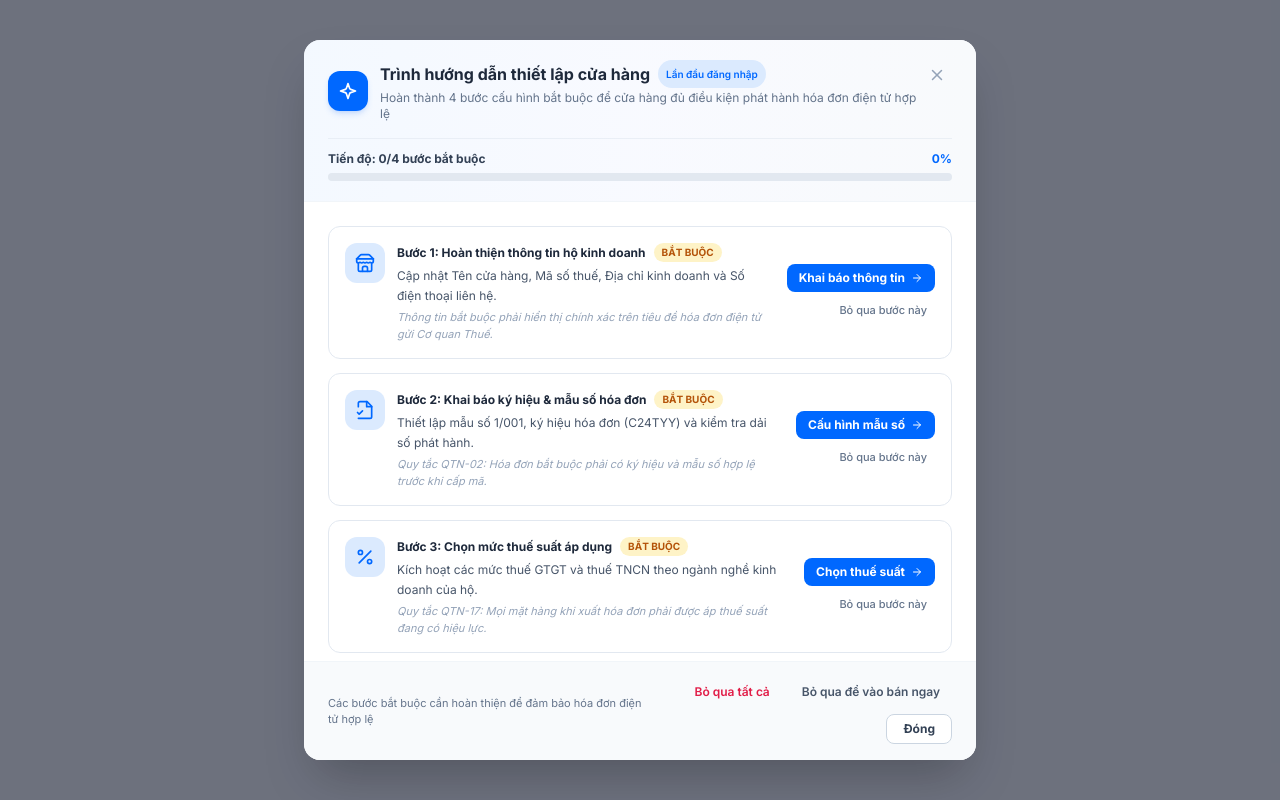
Test: NCL-09-CN-007: Trình hướng dẫn thiết lập lần đầu › TC-11: Bỏ qua từng bước (skip individual step) và khôi phục bước
Expected: the text "Tiến độ: 0/4 bước bắt buộc" is shown, left=328, top=151, right=486, bottom=167
Step 1. Click the button "Bỏ qua bước này" below "Hoàn thiện thông tin hộ kinh doanh" → (883,311), box left=831, top=300, right=935, bottom=321
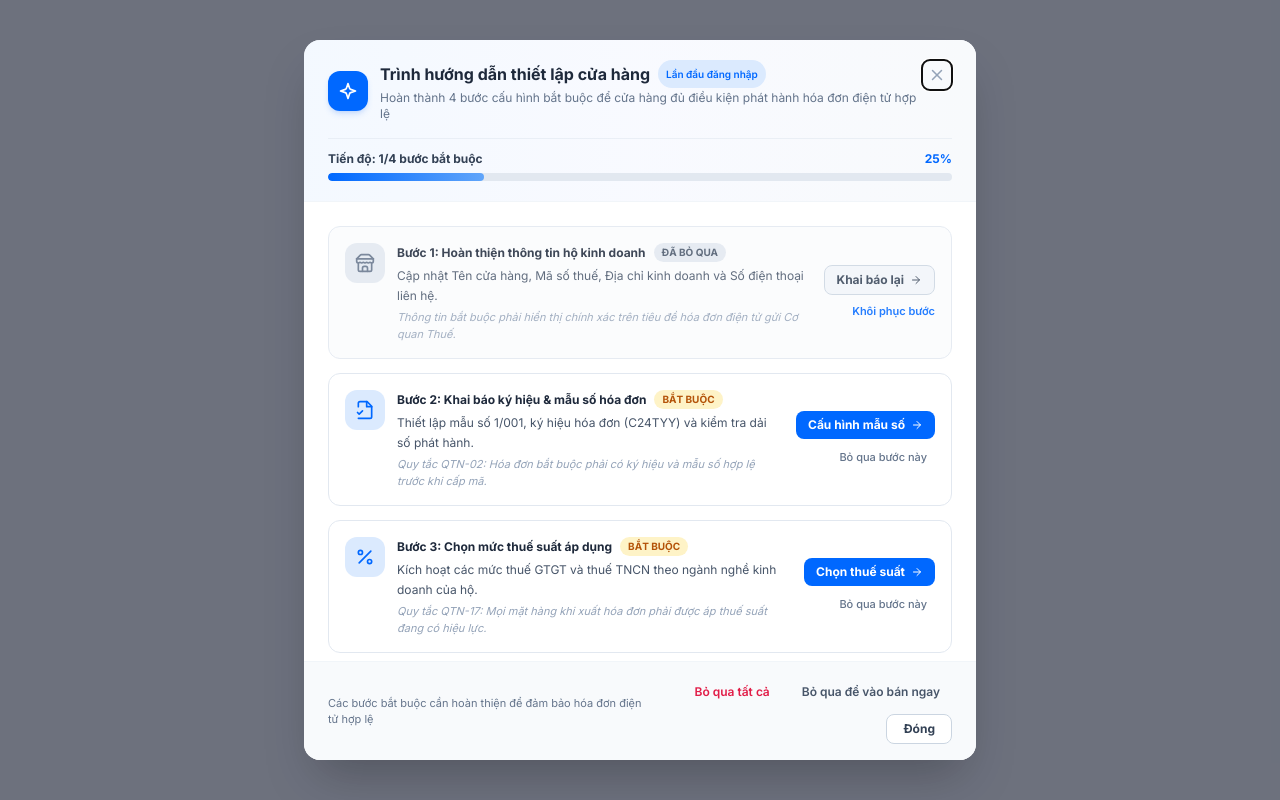
Expected: the text "ĐÃ BỎ QUA" is shown, left=654, top=243, right=726, bottom=262
Expected: the text "Tiến độ: 1/4 bước bắt buộc" is shown, left=328, top=151, right=483, bottom=167
Expected: the button "Khôi phục bước" is shown
// Click "Khôi phục bước"
Step 2. Click the button "Khôi phục bước" → (894,312), box left=852, top=303, right=935, bottom=320
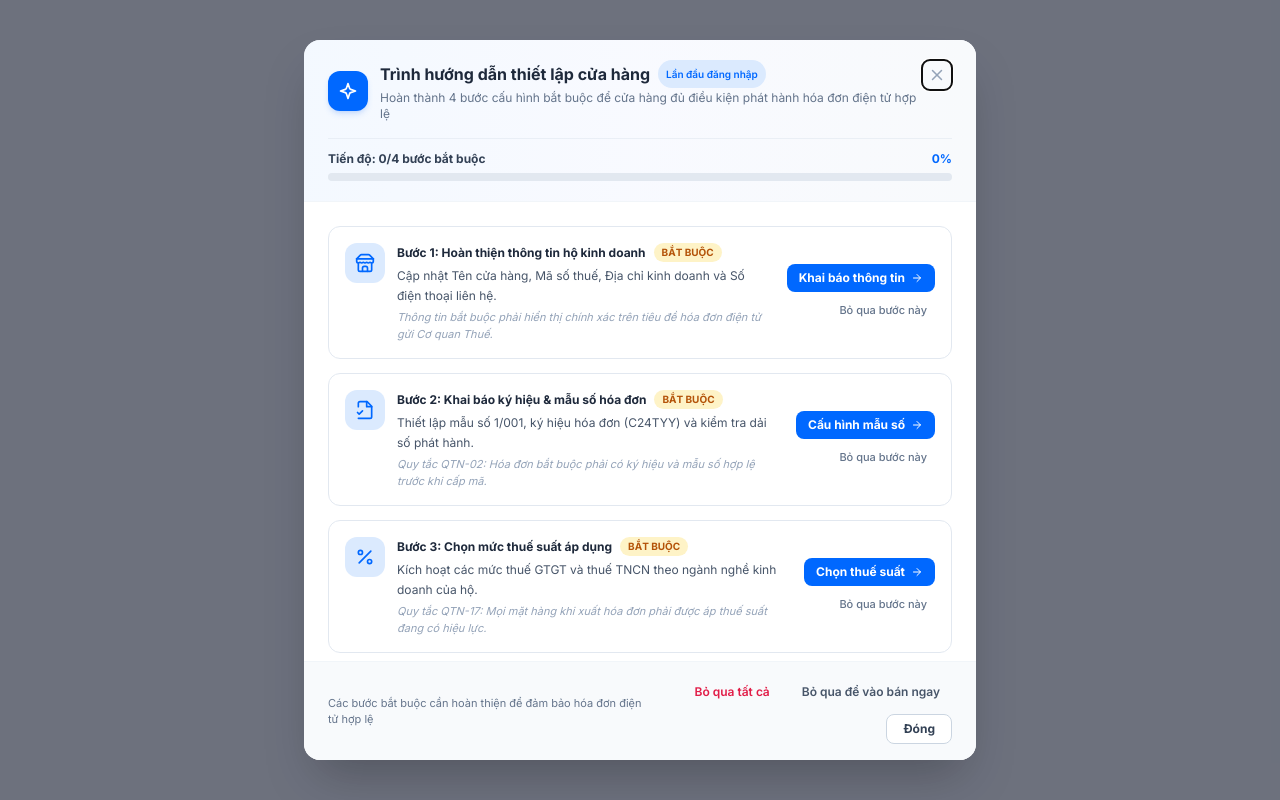
Expected: the text "ĐÃ BỎ QUA" is gone
Expected: the text "Tiến độ: 0/4 bước bắt buộc" is shown, left=328, top=151, right=486, bottom=167
